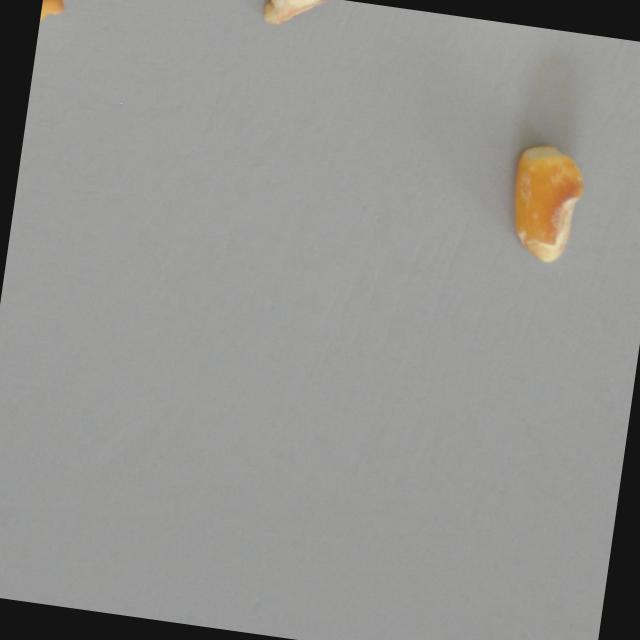dañado: (504, 141, 589, 270), (256, 0, 369, 39), (37, 0, 79, 39)
